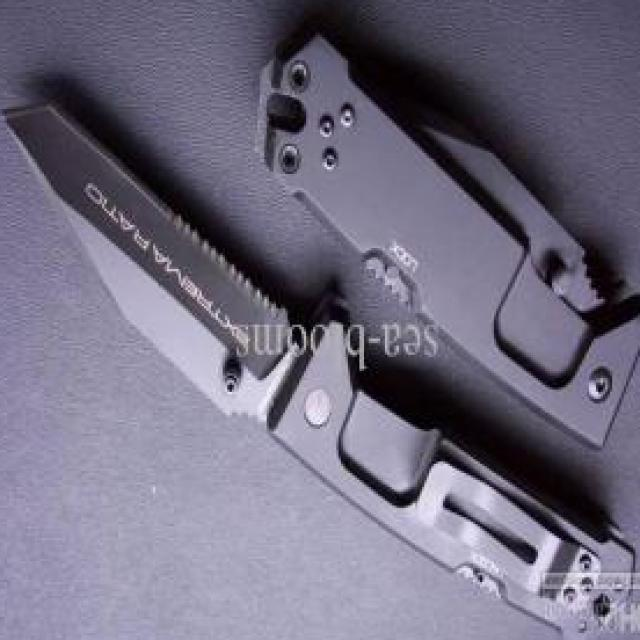knife: (0, 74, 304, 438)
